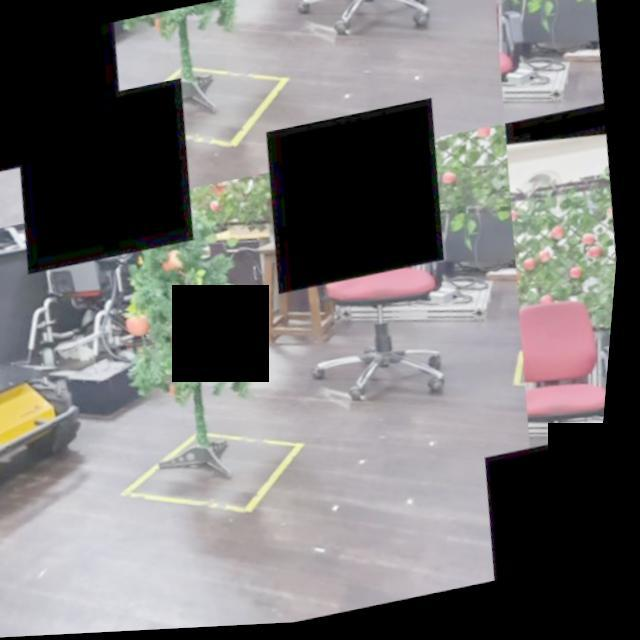Tree: (82, 197, 296, 505), (107, 1, 271, 138)
